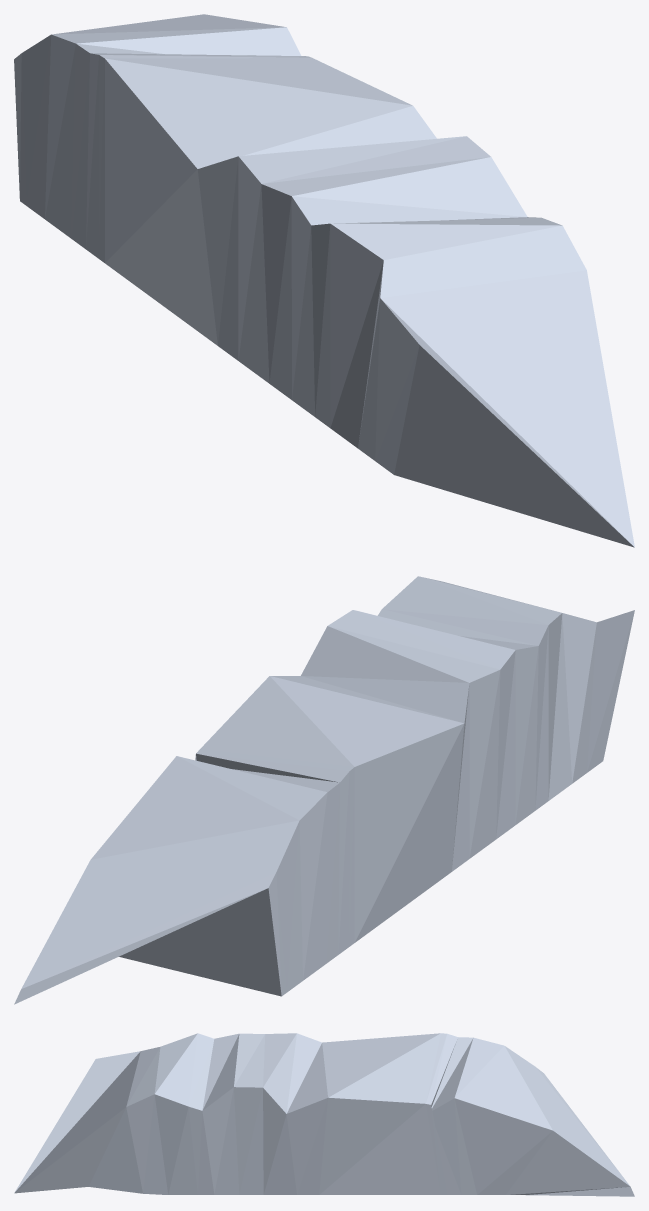
The model's file is Mountain.fbx.
The picture shows the model from 3 angles, top to bottom: view 1: azimuth 30°, elevation 25°; view 2: azimuth 150°, elevation 25°; view 3: azimuth 270°, elevation 25°; orthographic projection. The views are drawn at different scales.
Visible parts, largest first — view 1: Mountain; view 2: Mountain; view 3: Mountain.
Boxes of the visible parts, box(x1,y1,x2,y2) form: Mountain: box(14, 14, 634, 547); Mountain: box(14, 576, 634, 1004); Mountain: box(14, 1033, 634, 1196).
Bounding box in the file's own units: 239 × 226 × 1020.
